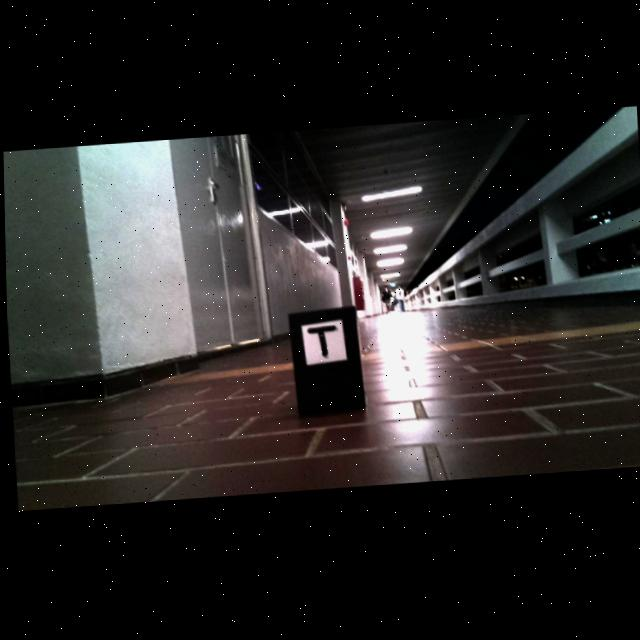T: (306, 328, 335, 359)
